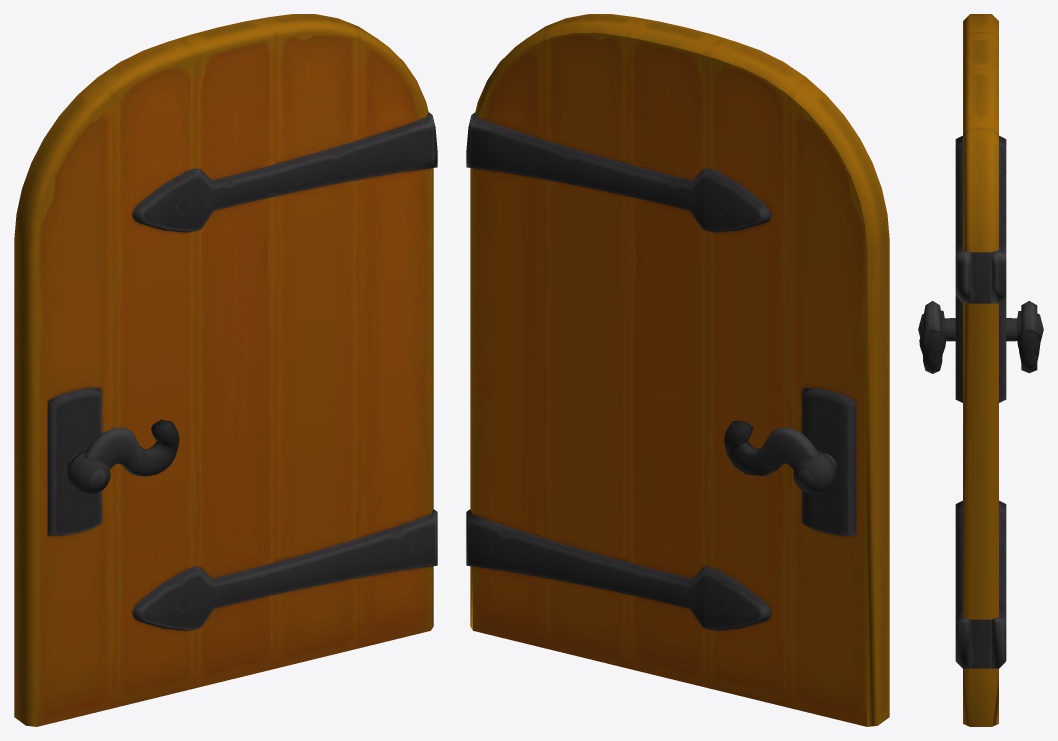
Rendered from door_ironparts_ar.glb.
3 views of the same model, side by side, from view 1: azimuth 30°, elevation 25°; view 2: azimuth 150°, elevation 25°; view 3: azimuth 270°, elevation 25° (orthographic). The views are drawn at different scales.
Parts seen in each view (by area): view 1: BodyR13_1__mDoorR; view 2: BodyR13_1__mDoorR; view 3: BodyR13_1__mDoorR.
Part boxes in pixels (bbox=[...]): BodyR13_1__mDoorR: bbox=[14, 14, 437, 726]; BodyR13_1__mDoorR: bbox=[466, 14, 889, 726]; BodyR13_1__mDoorR: bbox=[918, 14, 1043, 726].
Size of the model in its own units: 12 by 18 by 3.5.
Materials: 1 (1 with a texture image).
